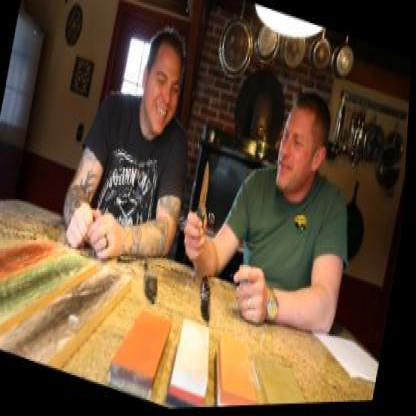knife: (183, 148, 224, 258)
